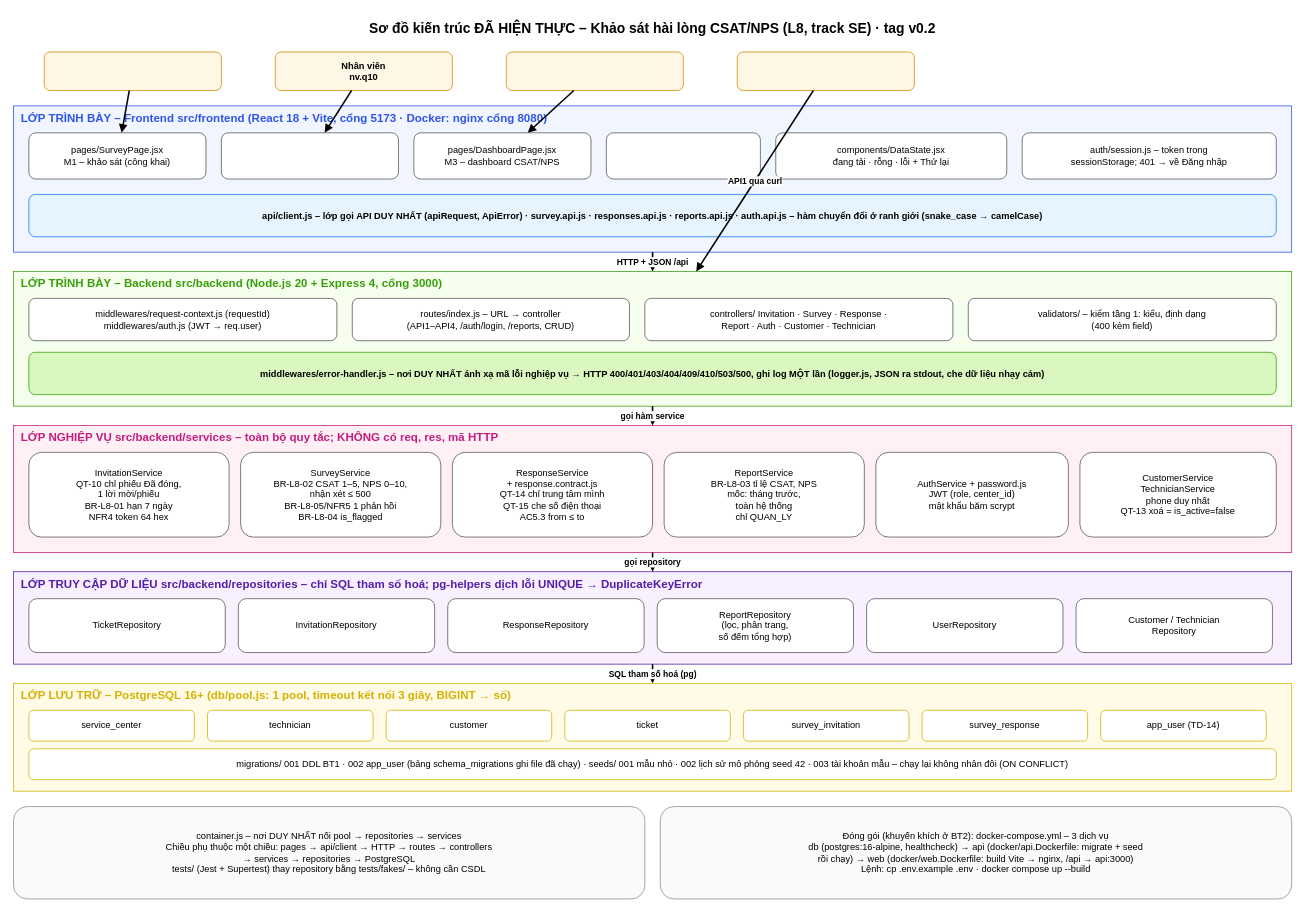
Some shapes in this 1305 by 912 pixel diagram are drawn without their labels. Each missing label, with the centre of its shape:
"Hệ thống quản lý phiếu (mô phỏng: curl gọi API1)" belongs at point (825, 70).
"Khách hàng (điện thoại)" belongs at point (132, 70).
"pages/LoginPage.jsx Đăng nhập (TD-18)" belongs at point (683, 155).
"pages/ResponsesPage.jsx M2 – danh sách phản hồi" belongs at point (309, 155).
"Quản lý trung tâm ql.q10" belongs at point (594, 70).
